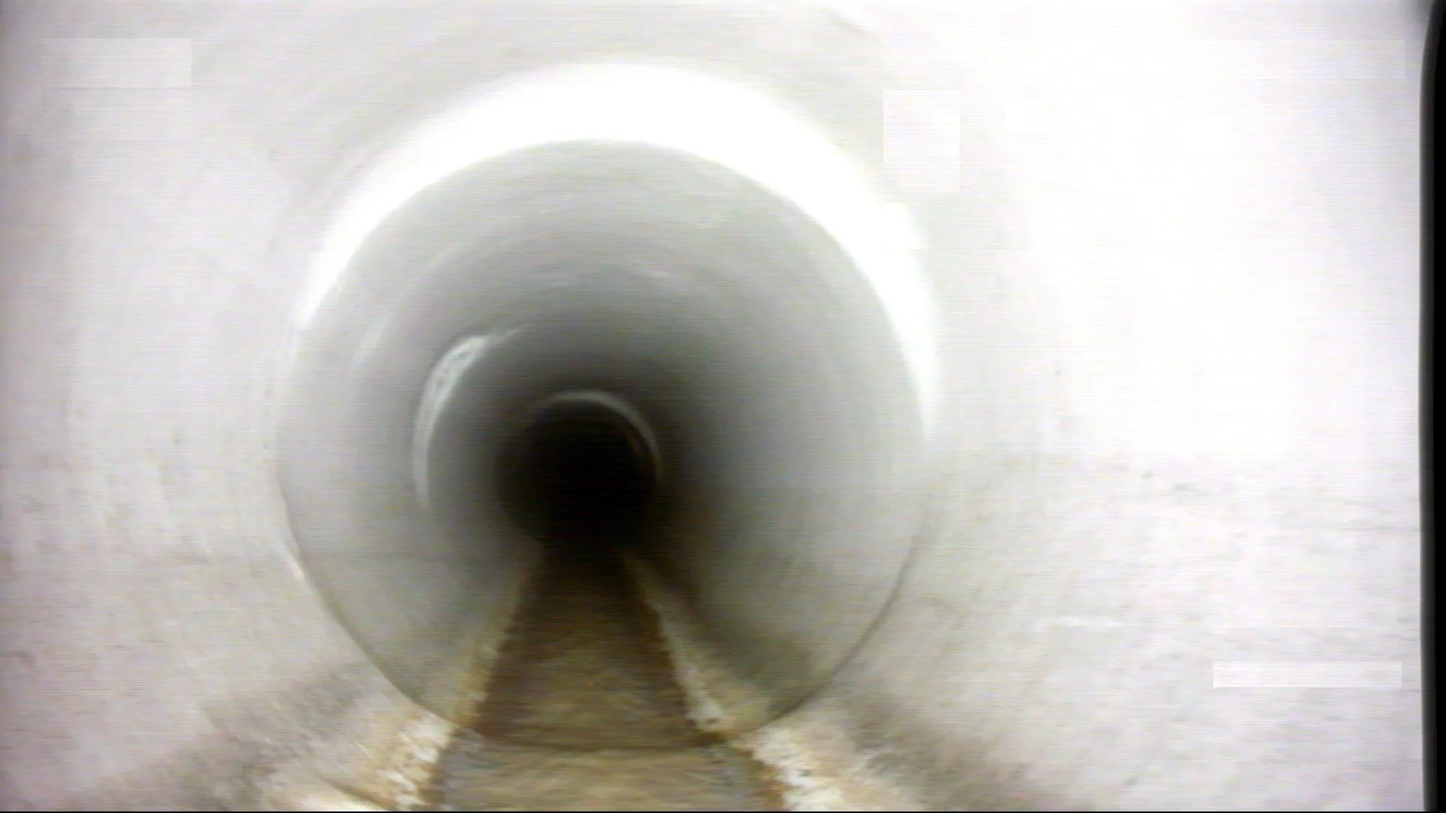circle1: (268, 137, 935, 756)
circle2: (506, 412, 649, 556)
